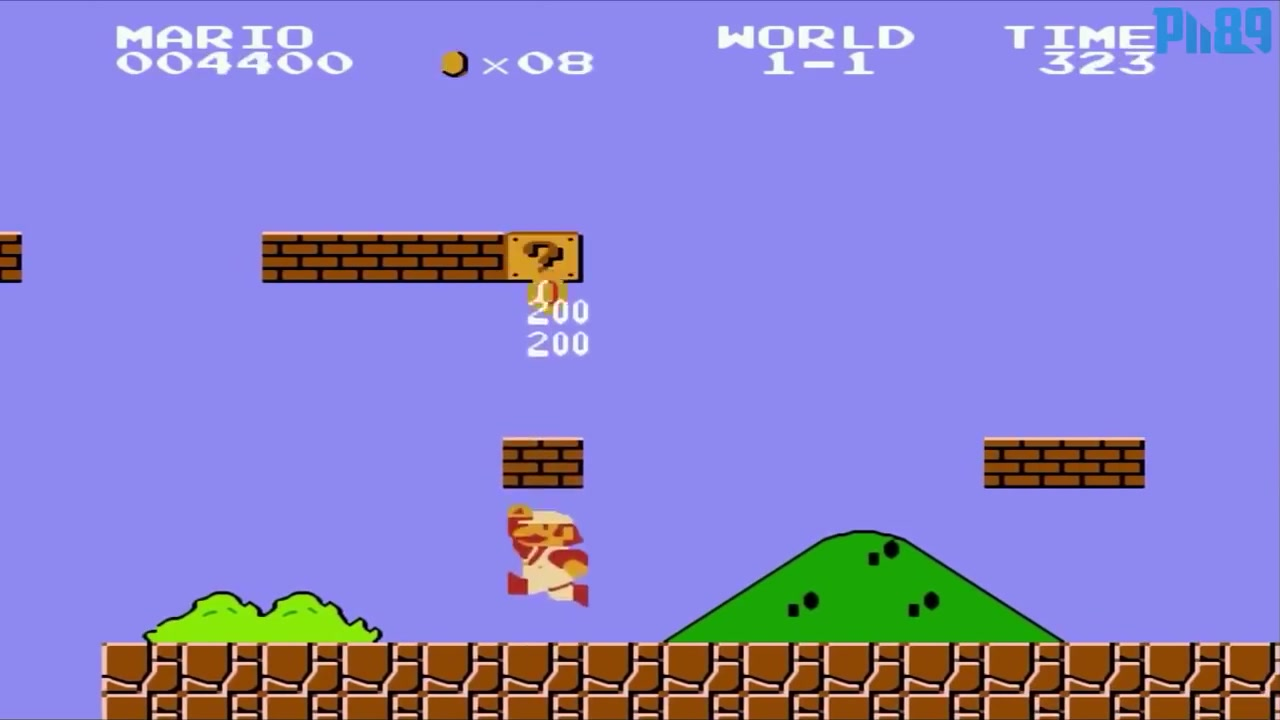mario: (491, 505, 599, 606)
